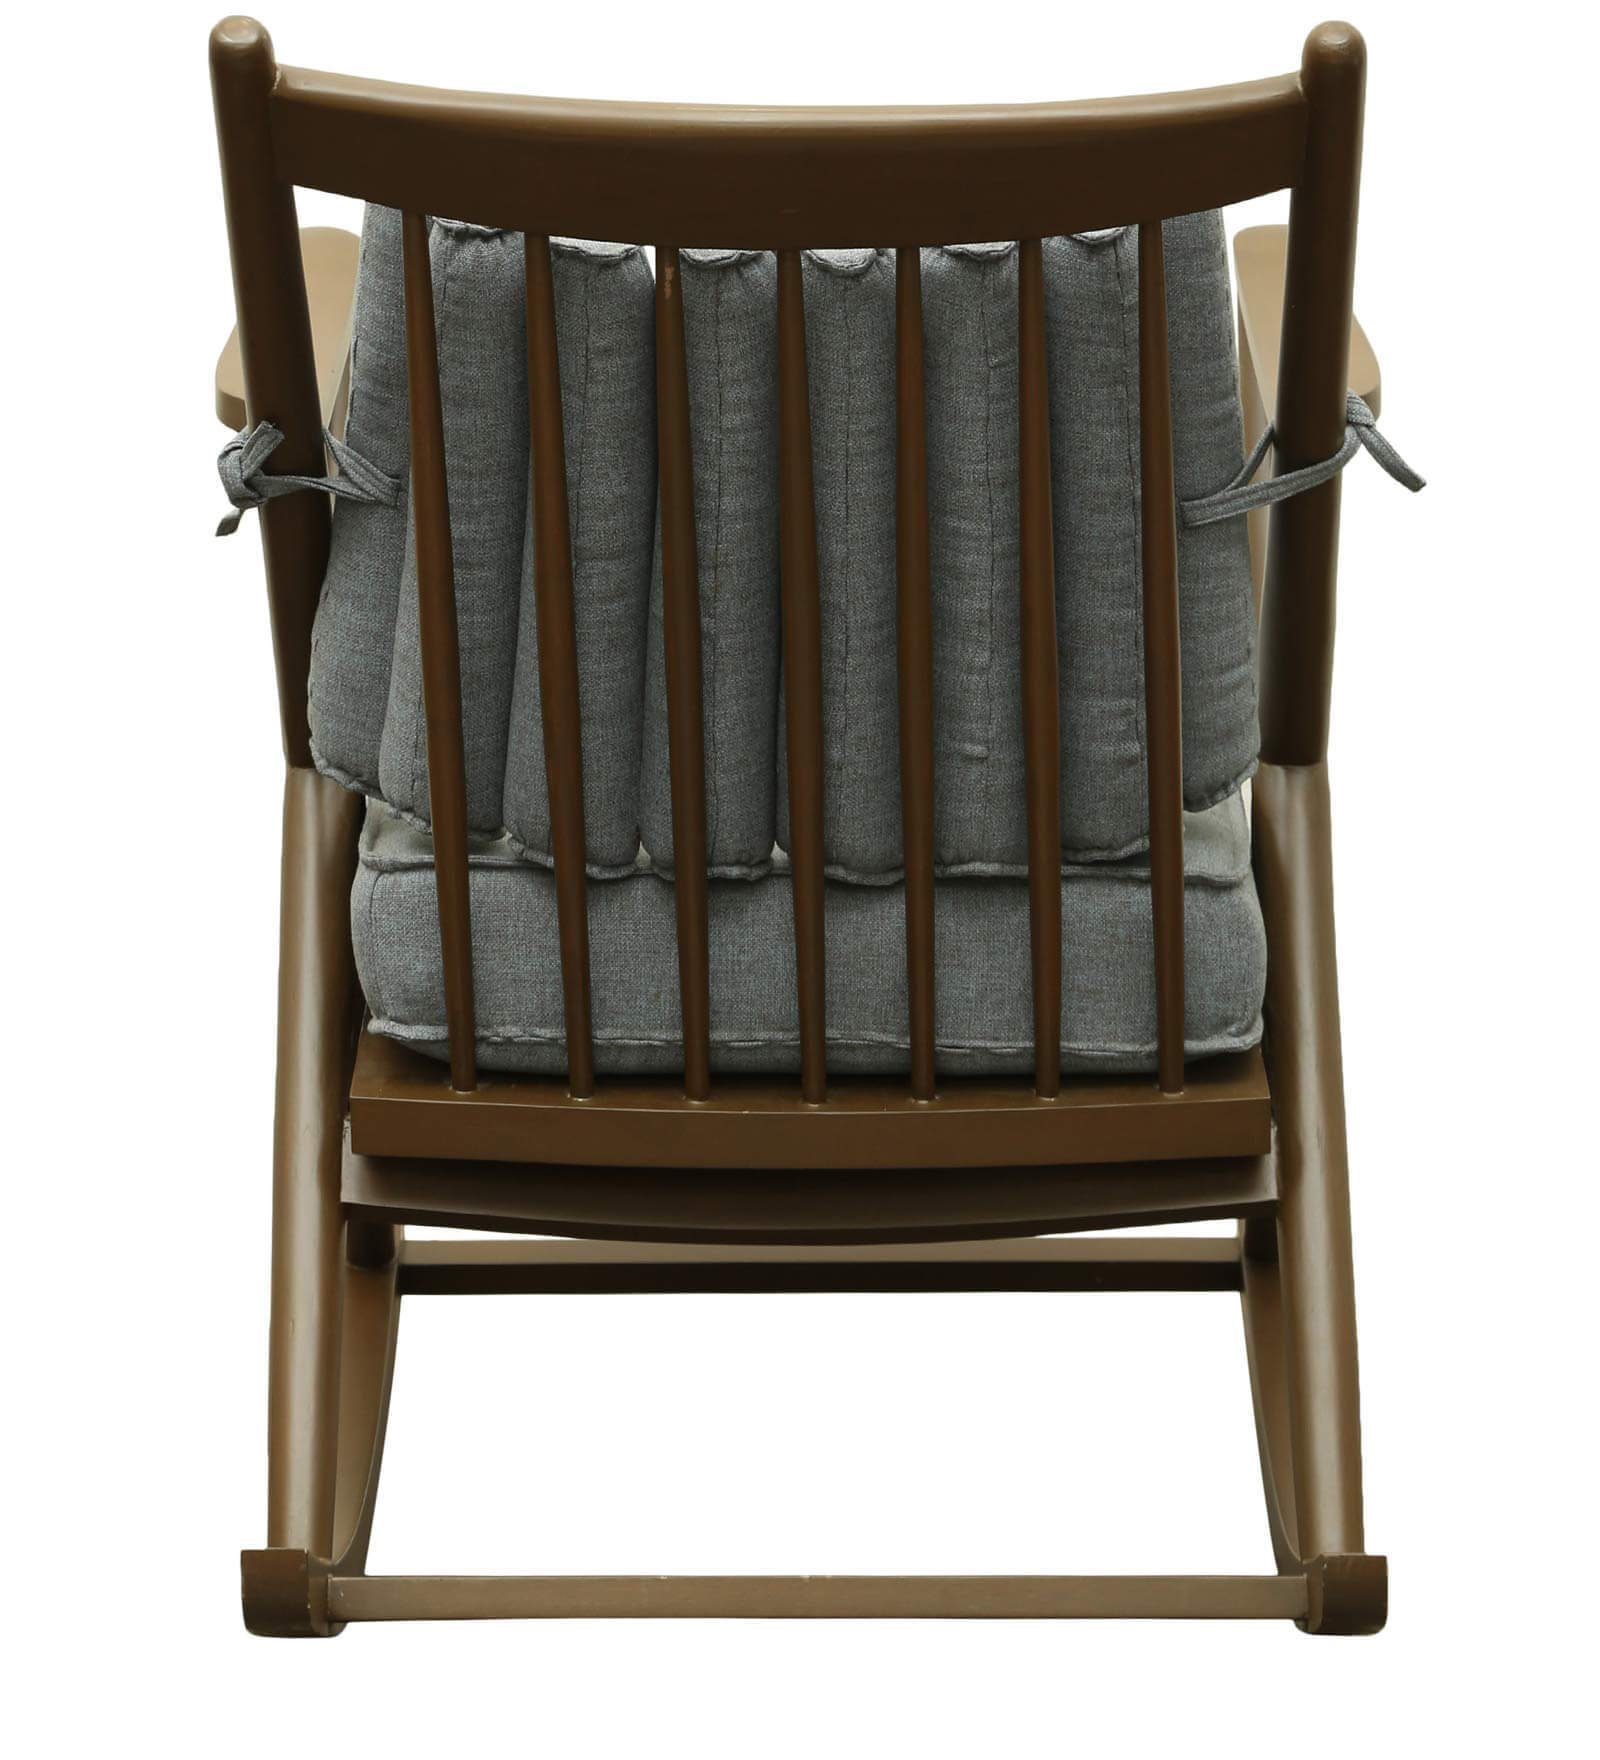Standard Rocking Chair in Grey & Brown Colour Combo by INDOORS: (110, 5, 1441, 1659)
